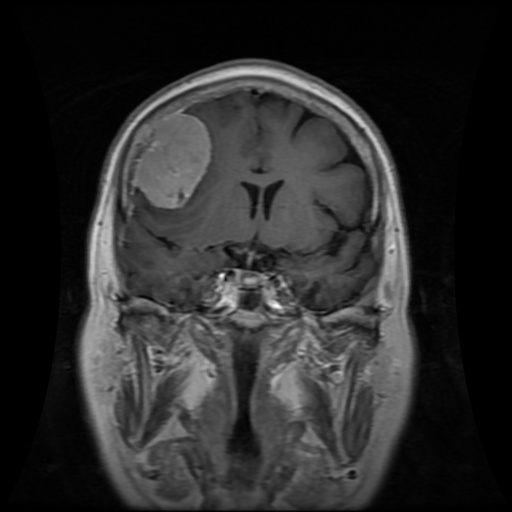meningioma: (136, 113, 210, 209)
